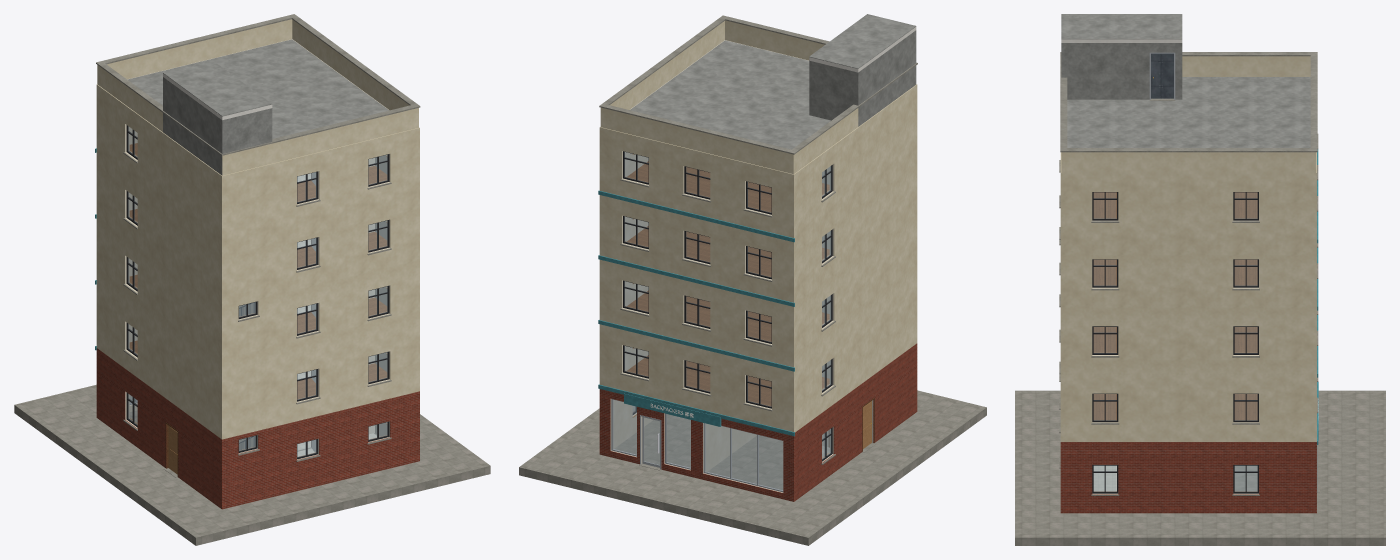
Rendered from b_backpacker_hostel.gltf.
3 views of the same model, side by side, from view 1: azimuth 30°, elevation 25°; view 2: azimuth 150°, elevation 25°; view 3: azimuth 270°, elevation 25° (orthographic). The views are drawn at different scales.
Parts seen in each view (by area): view 1: S_backpacker_hostel; view 2: S_backpacker_hostel, D_backpacker_hostel_F1_S3_Door0; view 3: S_backpacker_hostel, D_backpacker_hostel_PH_W0_Door0.
Part boxes in pixels (<box>): S_backpacker_hostel: <box>14,14,490,545</box>; S_backpacker_hostel: <box>519,14,986,545</box>; D_backpacker_hostel_F1_S3_Door0: <box>642,416,659,467</box>; S_backpacker_hostel: <box>1015,14,1385,545</box>; D_backpacker_hostel_PH_W0_Door0: <box>1151,53,1173,98</box>.
Bounding box in the file's own units: 15 × 19.5 × 16.
Materials: 21 (13 with a texture image).
